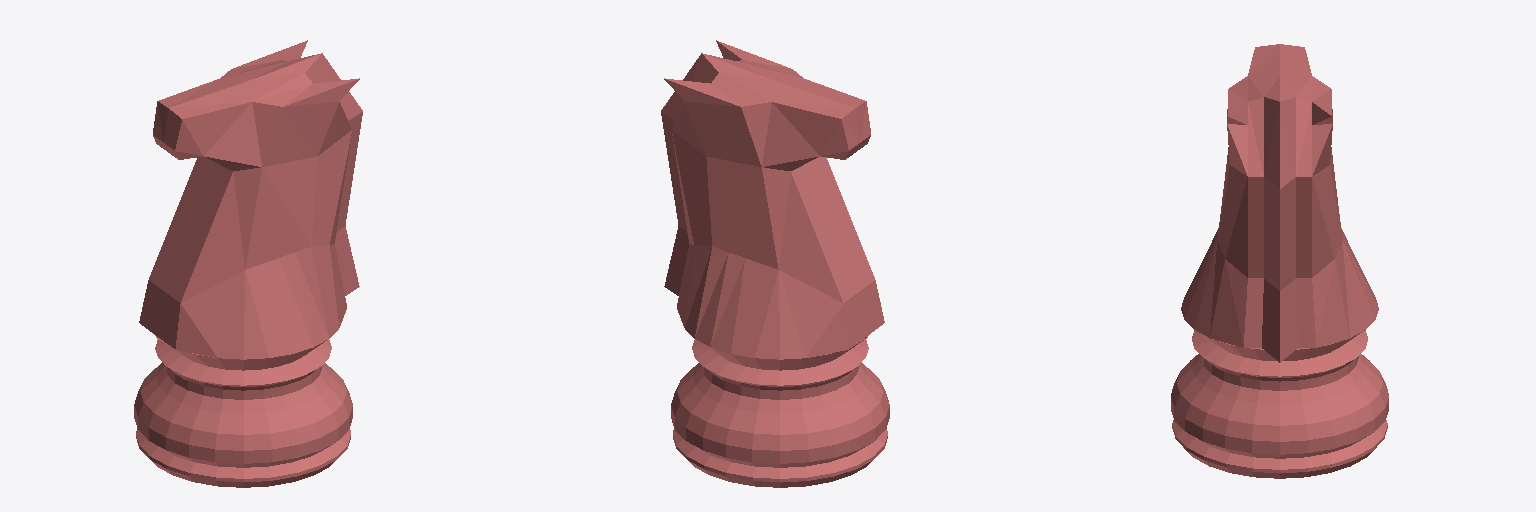
File: knight0.obj
3 renders of one model, left to right at view 1: azimuth 30°, elevation 25°; view 2: azimuth 150°, elevation 25°; view 3: azimuth 270°, elevation 25°, orthographic.
Visible parts, largest first — view 1: Mesh1_Model.012; view 2: Mesh1_Model.012; view 3: Mesh1_Model.012.
Boxes of the visible parts, <box> form: Mesh1_Model.012: <box>134,40,362,487</box>; Mesh1_Model.012: <box>661,40,889,487</box>; Mesh1_Model.012: <box>1171,44,1388,478</box>.
Bounding box in the file's own units: 0.8838 × 1.47 × 0.7815.